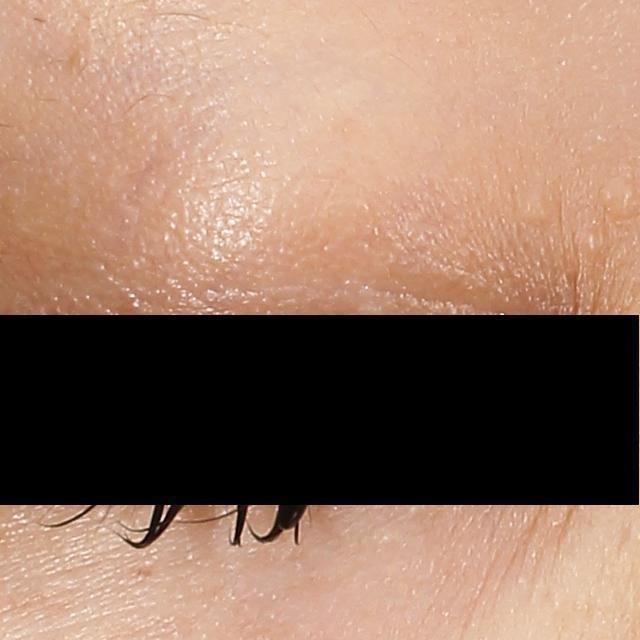comedo: (575, 228, 606, 259)
